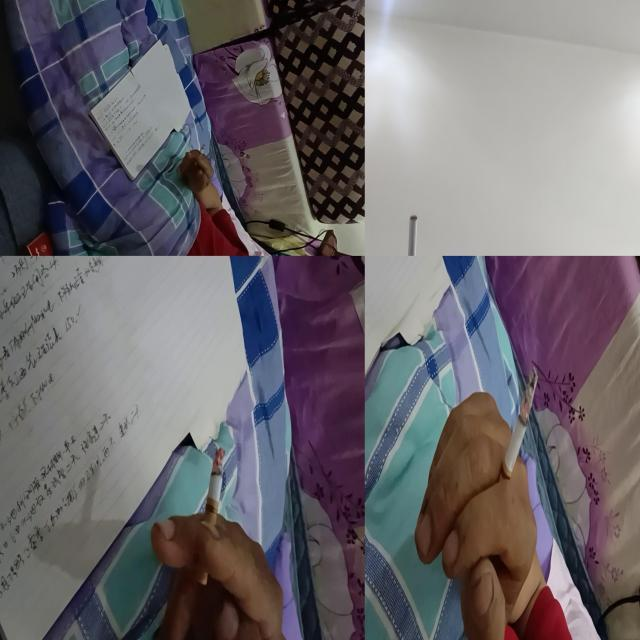smoking: (495, 364, 538, 502), (194, 448, 226, 586), (404, 216, 418, 256), (193, 144, 206, 166)
